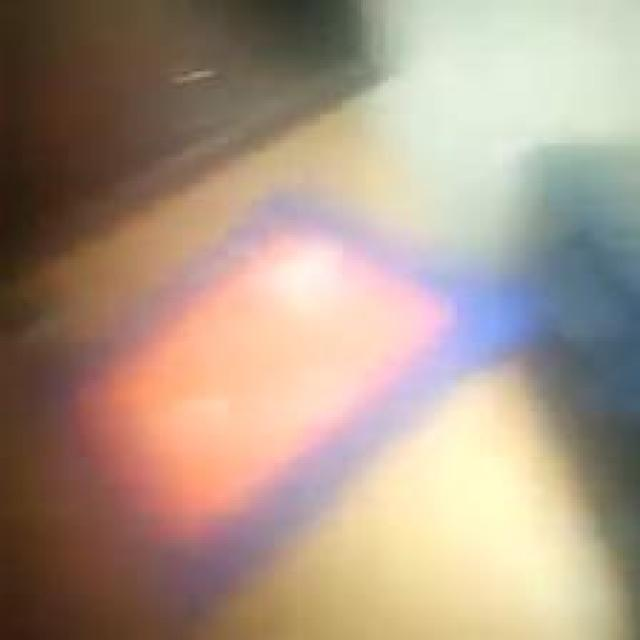other: (75, 223, 438, 500)
